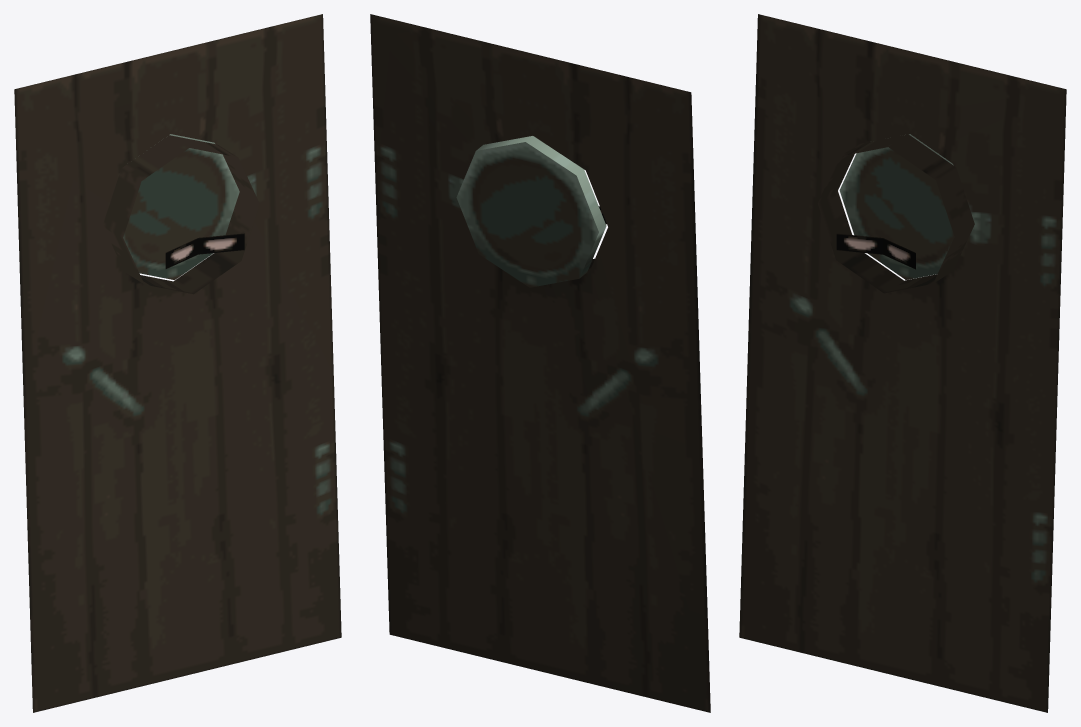
Rendered from lake_shipwreck_01_door_01_aaa24dfc.glb.
The picture shows the model from 3 angles, left to right: view 1: azimuth 30°, elevation 25°; view 2: azimuth 150°, elevation 25°; view 3: azimuth 330°, elevation 25°; orthographic projection. The views are drawn at different scales.
Size of the model in its own units: 1.58 by 2.99 by 0.367.
1 material, 1 textured.
